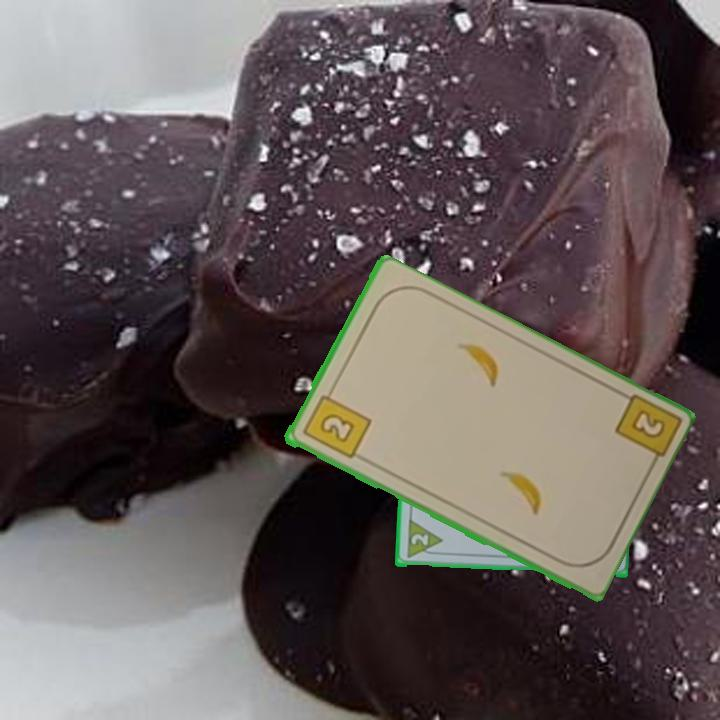2b: (298, 385, 373, 462), (627, 406, 668, 442)
2p: (403, 518, 445, 561)
